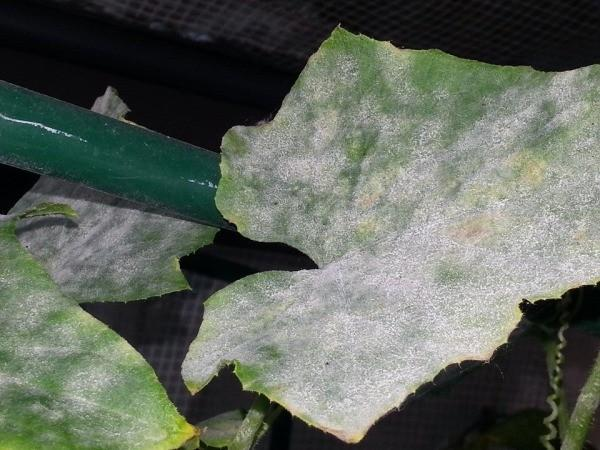Squash Powdery mildew leaf: (173, 26, 600, 436)
